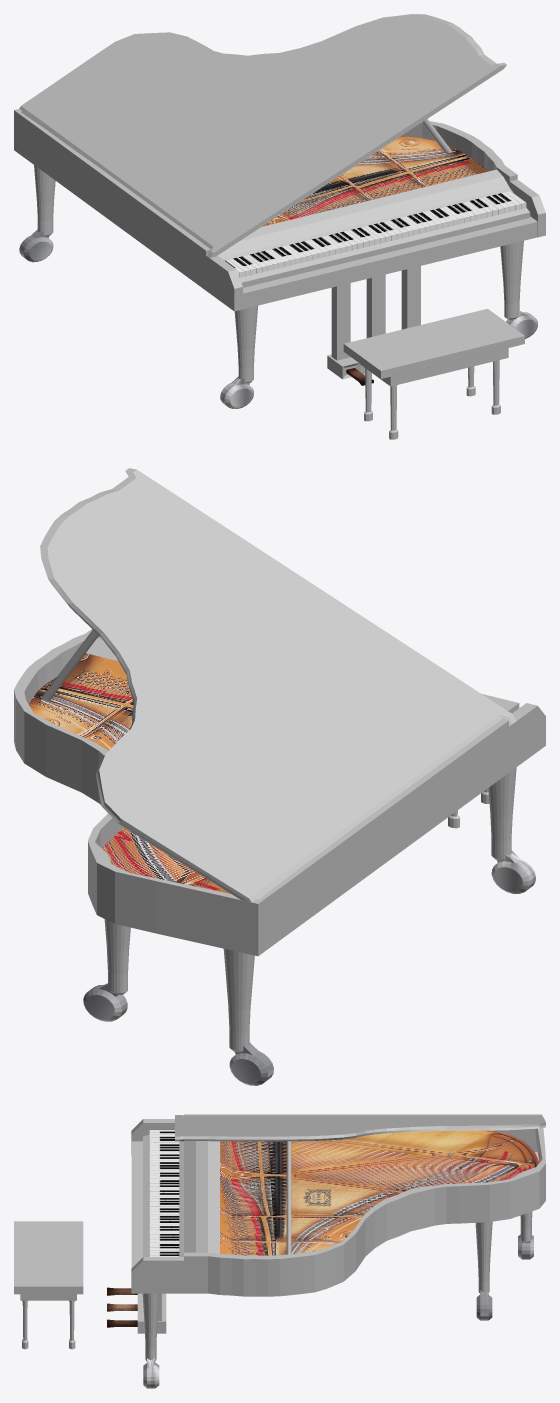
The model's file is piano_model.fbx.
The picture shows the model from 3 angles, top to bottom: view 1: azimuth 30°, elevation 25°; view 2: azimuth 150°, elevation 25°; view 3: azimuth 270°, elevation 25°; orthographic projection. The views are drawn at different scales.
Parts seen in each view (by area): view 1: curve2; view 2: curve2; view 3: curve2.
Part boxes in pixels (x1,y1,x2,y2): curve2: (14,14,545,439); curve2: (14,468,545,1085); curve2: (14,1114,545,1388).
Bounding box in the file's own units: 0.2864 × 0.2299 × 0.443.
